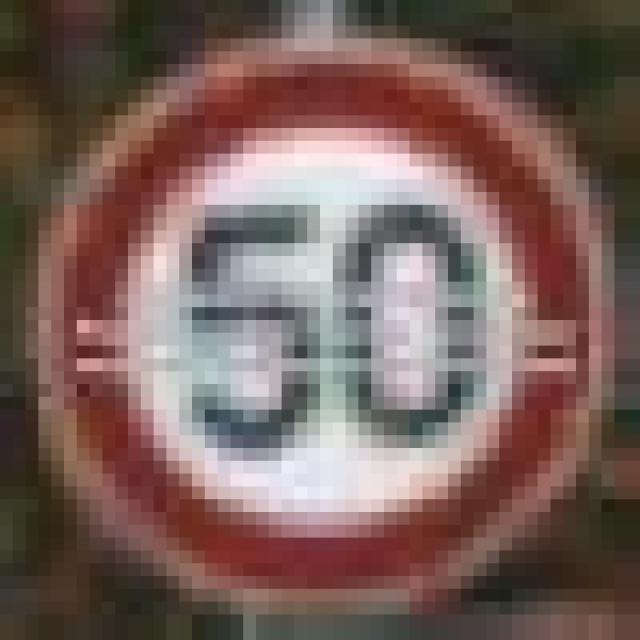speed_limit_30: (26, 38, 588, 589)
